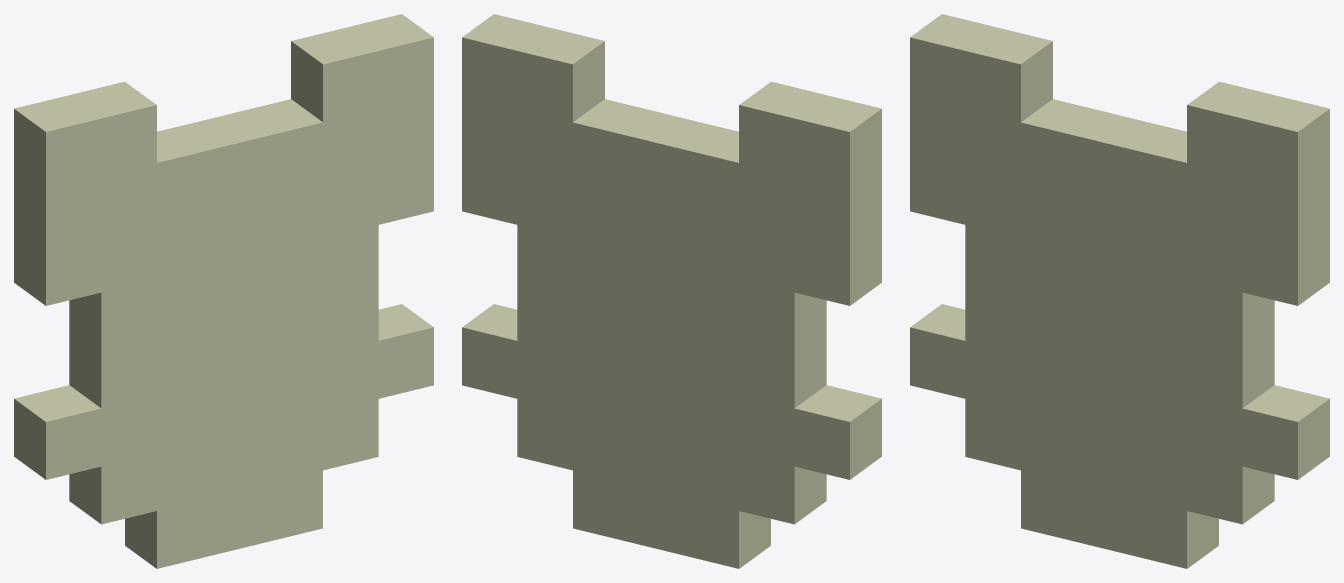
The model's file is Breastplate-Tan.vox.obj.
3 views of the same model, side by side, from view 1: azimuth 30°, elevation 25°; view 2: azimuth 150°, elevation 25°; view 3: azimuth 330°, elevation 25° (orthographic).
Size of the model in its own units: 0.7 by 0.8 by 0.1.
1 material, 1 textured.
